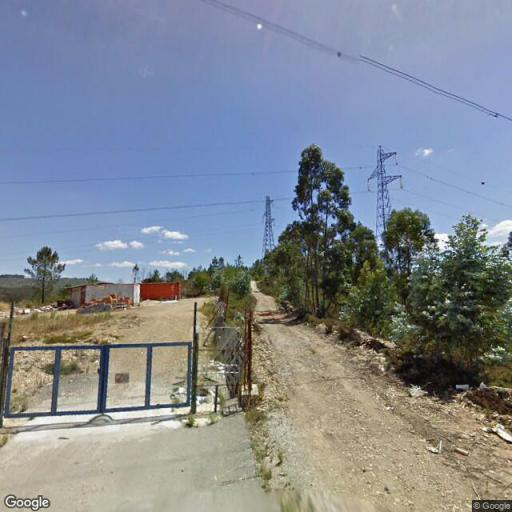ss_4: (368, 144, 406, 248), (261, 192, 279, 260)
